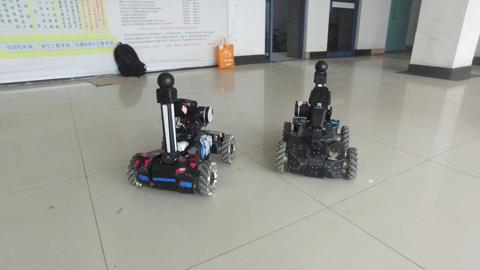chariot: (118, 67, 236, 205), (269, 56, 362, 186)
